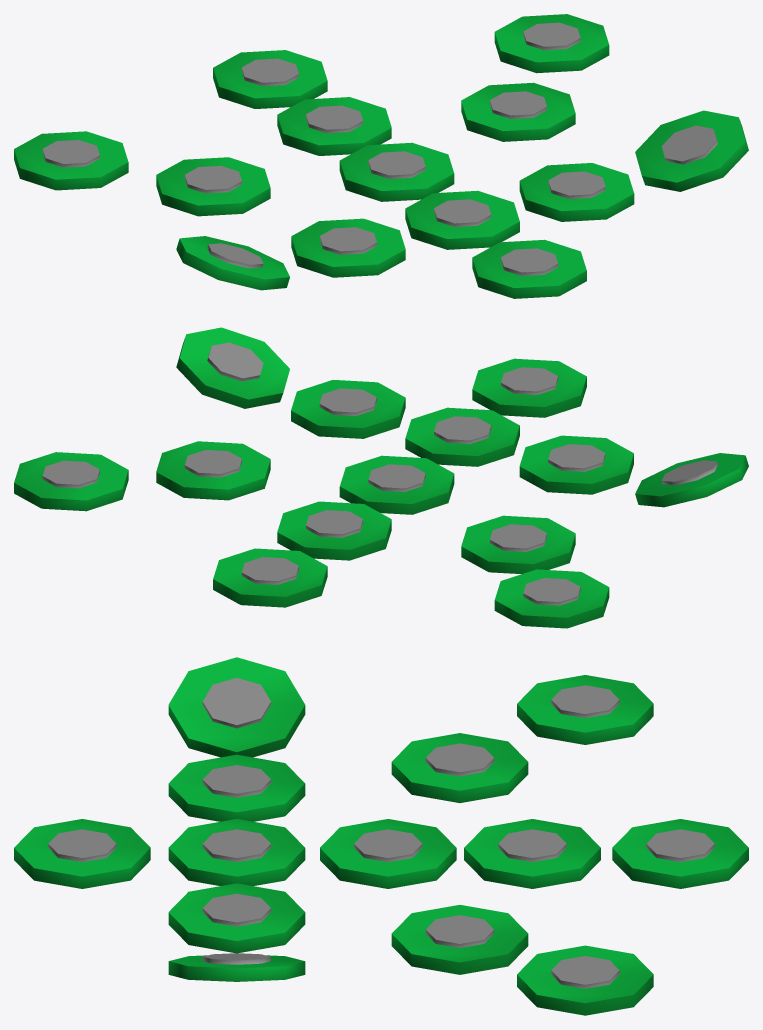
The model's file is MINE03.glb.
3 views of the same model, one above another, from view 1: azimuth 30°, elevation 25°; view 2: azimuth 150°, elevation 25°; view 3: azimuth 270°, elevation 25° (orthographic). The views are drawn at different scales.
Parts seen in each view (by area): view 1: FRAME_ROOT; view 2: FRAME_ROOT; view 3: FRAME_ROOT.
Part boxes in pixels (x1=…): FRAME_ROOT: x1=14, y1=14, x2=748, y2=298; FRAME_ROOT: x1=14, y1=327, x2=748, y2=628; FRAME_ROOT: x1=14, y1=657, x2=748, y2=1015.
Size of the model in its own units: 5.68 by 0.4201 by 5.37.
Materials: 1 (1 with a texture image).
